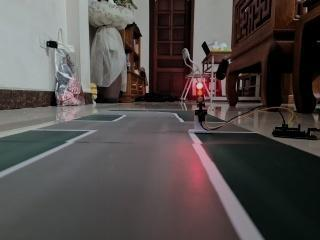red: (190, 77, 210, 111)
